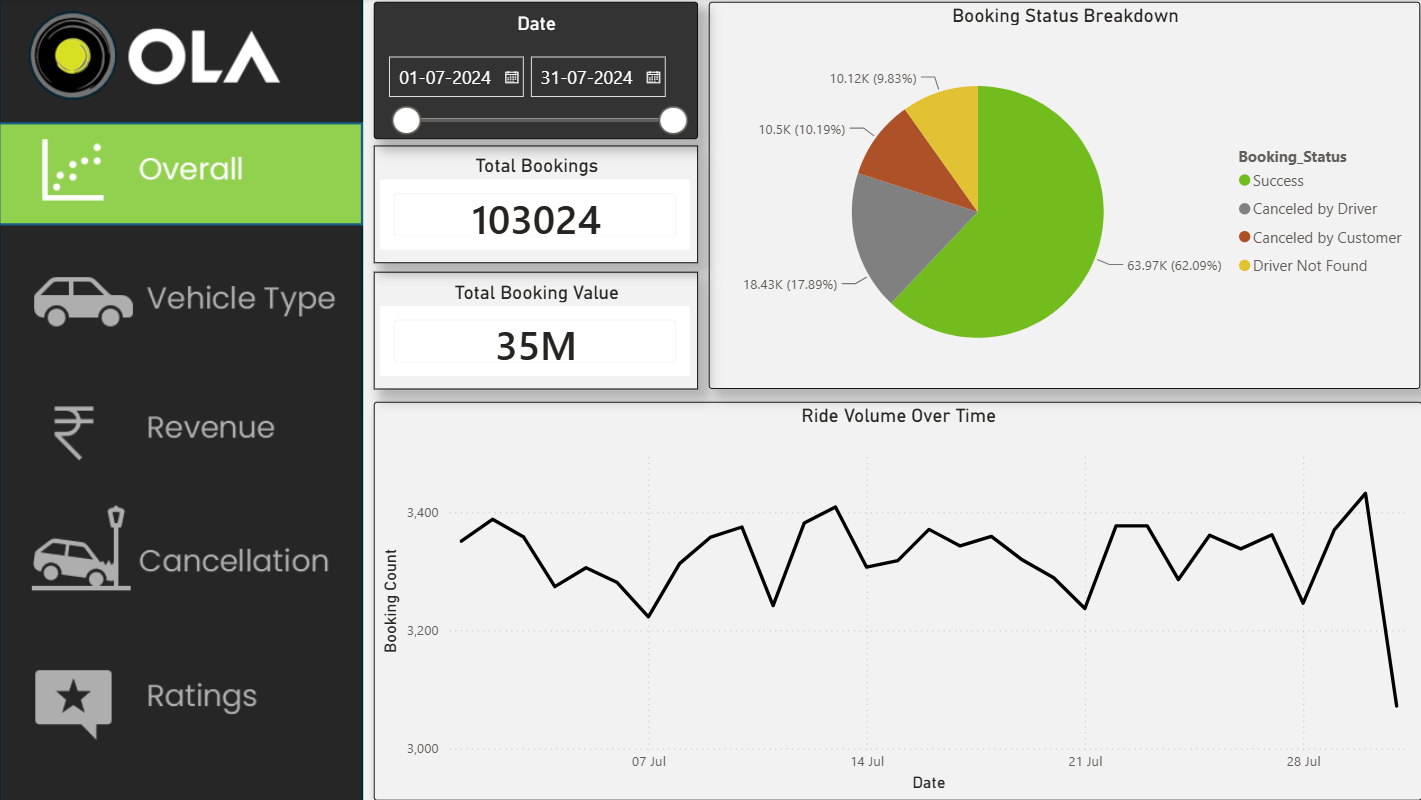

This screenshot's page, from the dashboard's own definition file:
{"tool":"powerbi","page":{"name":"Overall","canvas":[1280,720],"ordinal":0},"visuals":[{"type":"actionButton","box":[0,217.8,323.3,92.2],"z":0},{"type":"actionButton","box":[0,341.1,323.3,92.2],"z":1000},{"type":"actionButton","box":[1.1,448.9,323.3,92.2],"z":2000},{"type":"actionButton","box":[0,577.8,323.3,92.2],"z":3000},{"type":"lineChart","title":"Ride Volume Over Time","fields":{"Category":["July.Date"],"Y":["CountNonNull(July.Booking_ID)"]},"box":[332.5,360,933.8,355],"z":4000},{"type":"pieChart","title":"Booking Status Breakdown","fields":{"Category":["July.Booking_Status"],"Y":["CountNonNull(July.Booking_Status)"]},"box":[631.2,3.8,633.8,345],"z":5000},{"type":"slicer","title":"Date","fields":{"Values":["July.Date"]},"box":[332.5,3.8,288.8,122.5],"z":6000},{"type":"cardVisual","title":"Total Bookings","fields":{"Data":["CountNonNull(July.Booking_ID)"]},"box":[332.5,131.2,288.8,105],"z":7000},{"type":"cardVisual","title":"Total Booking Value","fields":{"Data":["Sum(July.Booking_Value)"]},"box":[332.5,243.8,288.8,105],"z":8000}]}

Visuals, with their boxes in screenshot pixels (x1, y1, x2, y2), scaled from the page's 1280x720 canvas onto the 1421x800 screenshot:
actionButton: x1=0 y1=242 x2=359 y2=344
actionButton: x1=0 y1=379 x2=359 y2=481
actionButton: x1=1 y1=499 x2=360 y2=601
actionButton: x1=0 y1=642 x2=359 y2=744
"Ride Volume Over Time" lineChart: x1=369 y1=400 x2=1406 y2=794
"Booking Status Breakdown" pieChart: x1=701 y1=4 x2=1404 y2=388
"Date" slicer: x1=369 y1=4 x2=690 y2=140
"Total Bookings" cardVisual: x1=369 y1=146 x2=690 y2=262
"Total Booking Value" cardVisual: x1=369 y1=271 x2=690 y2=388
